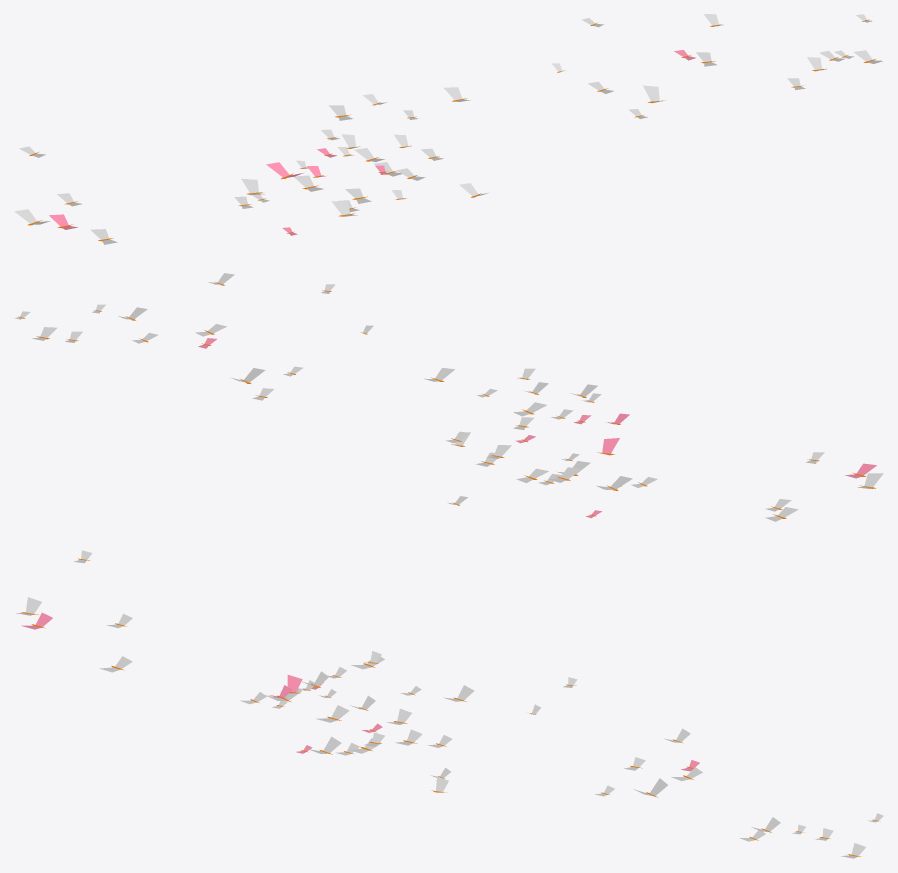
The model's file is W3_Far_Birds.fbx.
3 renders of one model, top to bottom at view 1: azimuth 30°, elevation 25°; view 2: azimuth 150°, elevation 25°; view 3: azimuth 330°, elevation 25°, orthographic. The views are drawn at different scales.
Parts seen in each view (by area): view 1: W3_Far_Birds; view 2: W3_Far_Birds; view 3: W3_Far_Birds.
Boxes of the visible parts, bbox=[...] form: W3_Far_Birds: bbox=[14, 14, 882, 244]; W3_Far_Birds: bbox=[14, 273, 883, 521]; W3_Far_Birds: bbox=[16, 550, 883, 858].
Bounding box in the file's own units: 433 × 76.2 × 50.5.
